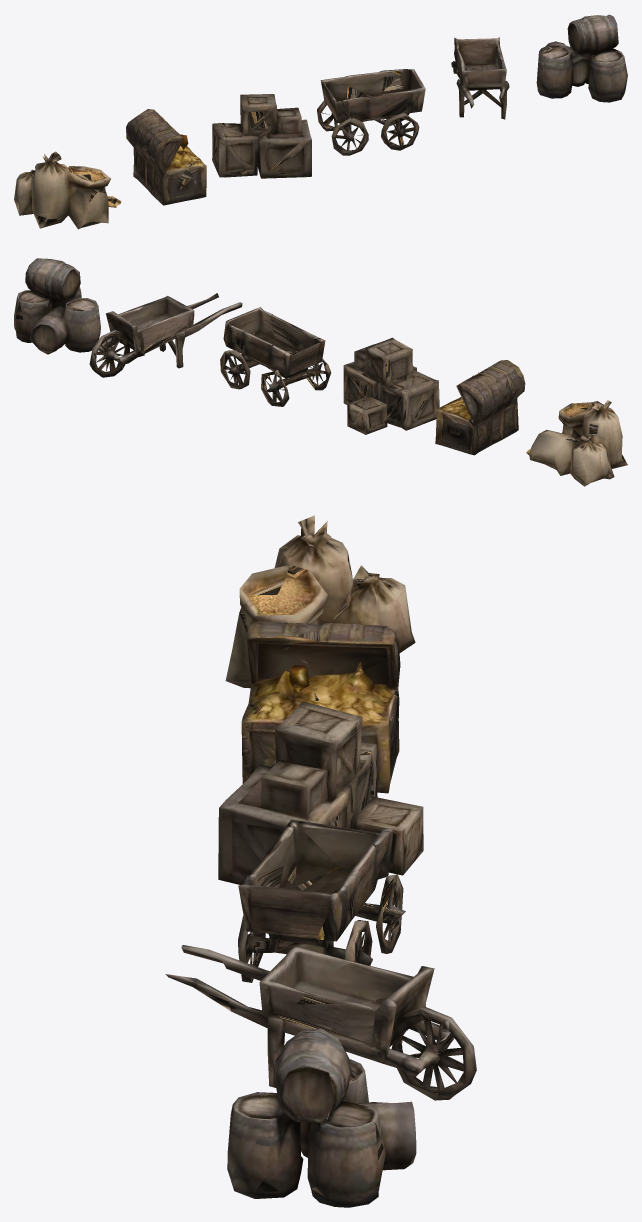
File: props_town.glb
3 renders of one model, top to bottom at view 1: azimuth 30°, elevation 25°; view 2: azimuth 150°, elevation 25°; view 3: azimuth 270°, elevation 25°, orthographic. The views are drawn at different scales.
Visible parts, largest first — view 1: crates, wagon, barrels, sacks, chest, handcart; view 2: crates, wagon, barrels, chest, sacks, handcart; view 3: barrels, handcart, crates, wagon, chest, sacks.
Boxes of the visible parts, box(x1,y1,x2,y2) form: crates: box(212, 94, 311, 178); wagon: box(317, 69, 425, 155); barrels: box(536, 14, 627, 102); sacks: box(14, 151, 121, 229); chest: box(126, 109, 206, 205); handcart: box(451, 37, 509, 119); crates: box(343, 337, 439, 434); wagon: box(220, 307, 331, 406); barrels: box(14, 258, 100, 354); chest: box(435, 360, 525, 455); sacks: box(526, 400, 627, 486); handcart: box(89, 293, 242, 377); barrels: box(227, 1028, 416, 1207); handcart: box(165, 945, 476, 1100); crates: box(218, 701, 423, 884); wagon: box(238, 819, 405, 982); chest: box(241, 620, 400, 793); sacks: box(225, 515, 415, 688).
Bounding box in the file's own units: 1.97 × 0.223 × 0.4495.
Materials: 1 (1 with a texture image).
